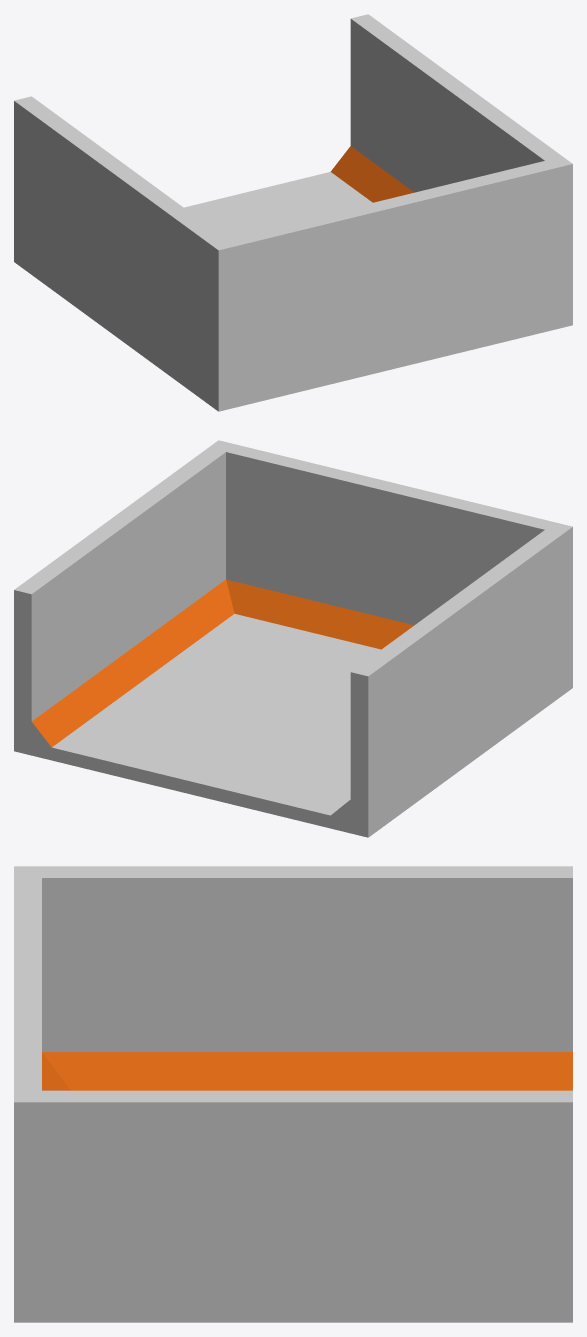
The model's file is 3-wall.fbx.
3 renders of one model, top to bottom at view 1: azimuth 30°, elevation 25°; view 2: azimuth 150°, elevation 25°; view 3: azimuth 270°, elevation 25°, orthographic. The views are drawn at different scales.
Visible parts, largest first — view 1: Плоскость.017; view 2: Плоскость.017; view 3: Плоскость.017.
Part boxes in pixels (bbox=[...]): Плоскость.017: bbox=[14, 14, 572, 411]; Плоскость.017: bbox=[14, 440, 572, 837]; Плоскость.017: bbox=[14, 866, 572, 1322].
Bounding box in the file's own units: 599 × 260 × 599.
